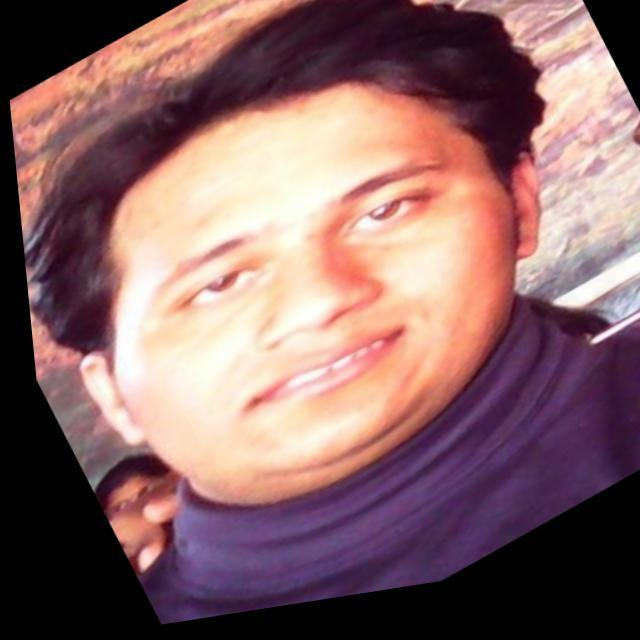Nonhelmet: (18, 0, 550, 508)
